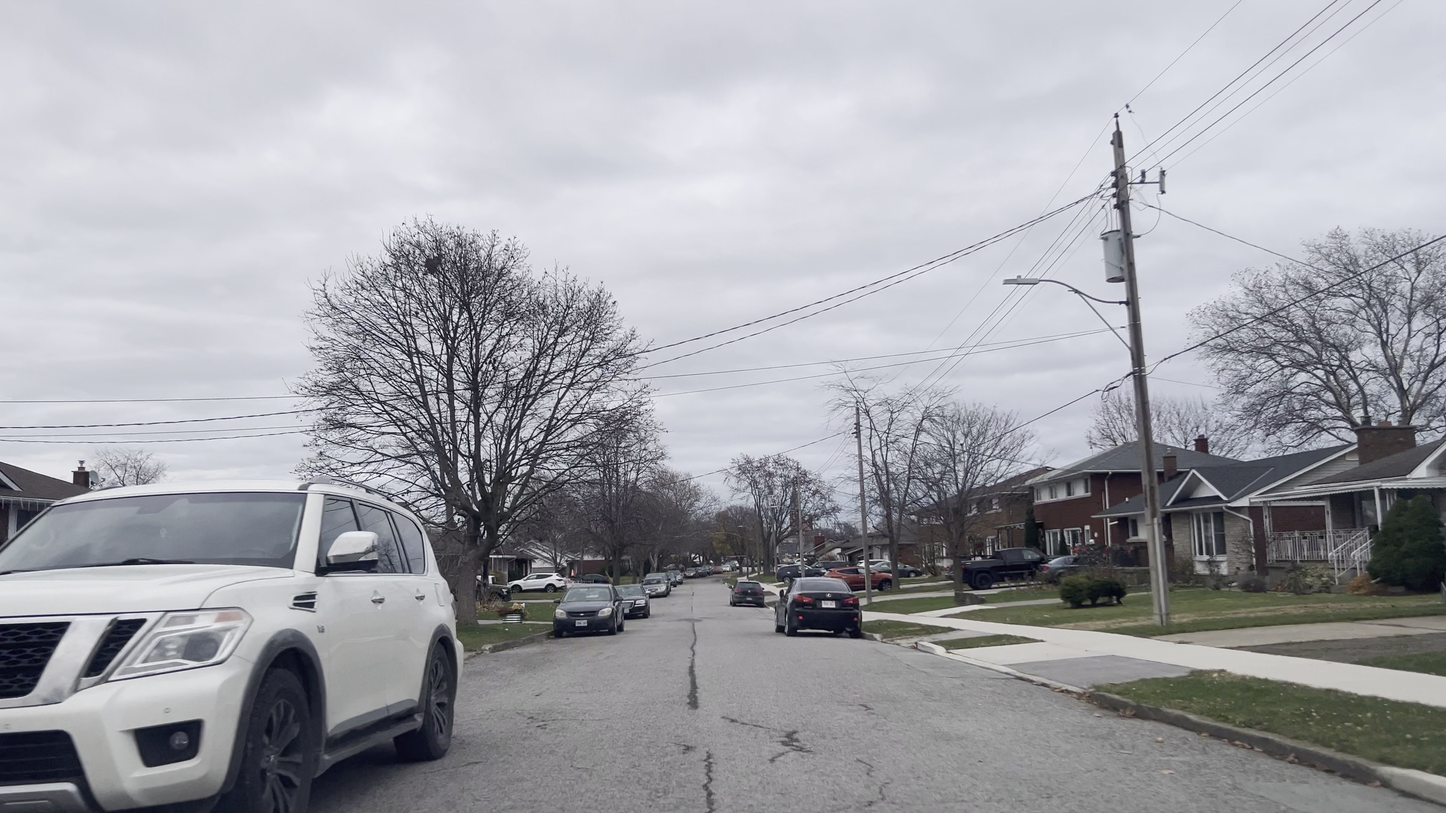cracks: (745, 722, 826, 765), (684, 748, 732, 813), (684, 620, 711, 726)
